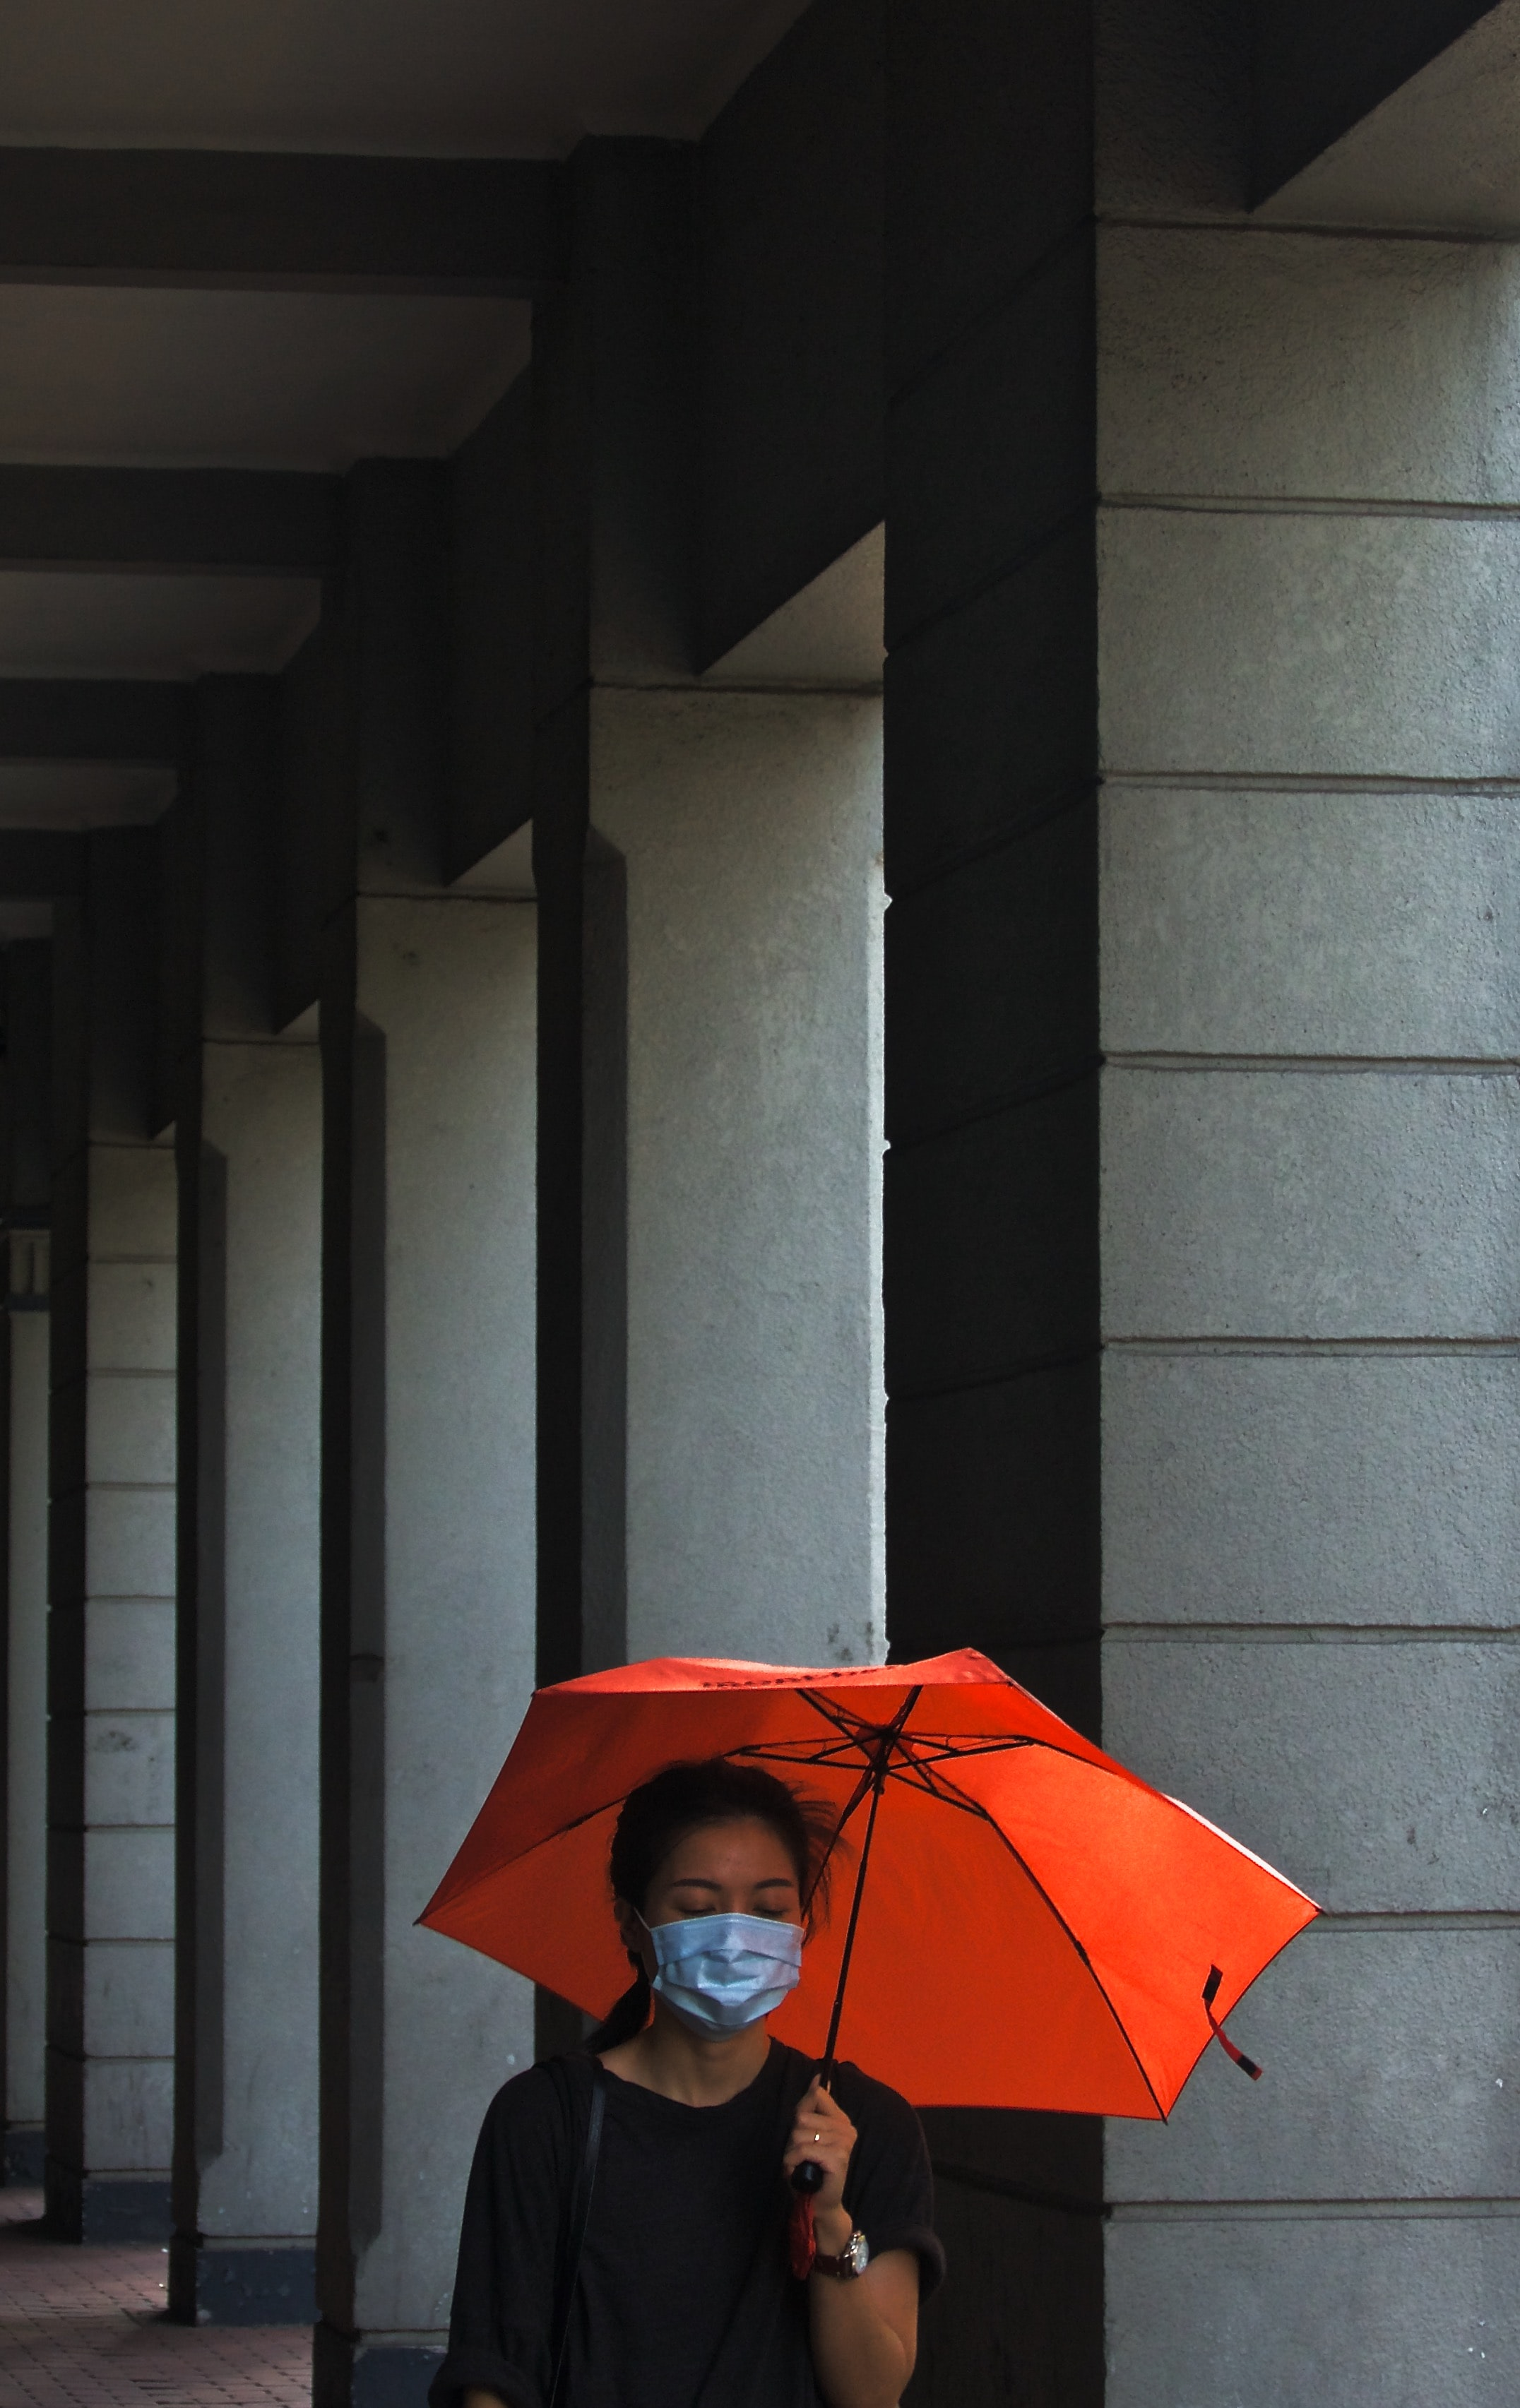mask: (627, 1912, 814, 2047)
person: (501, 1762, 950, 2408)
